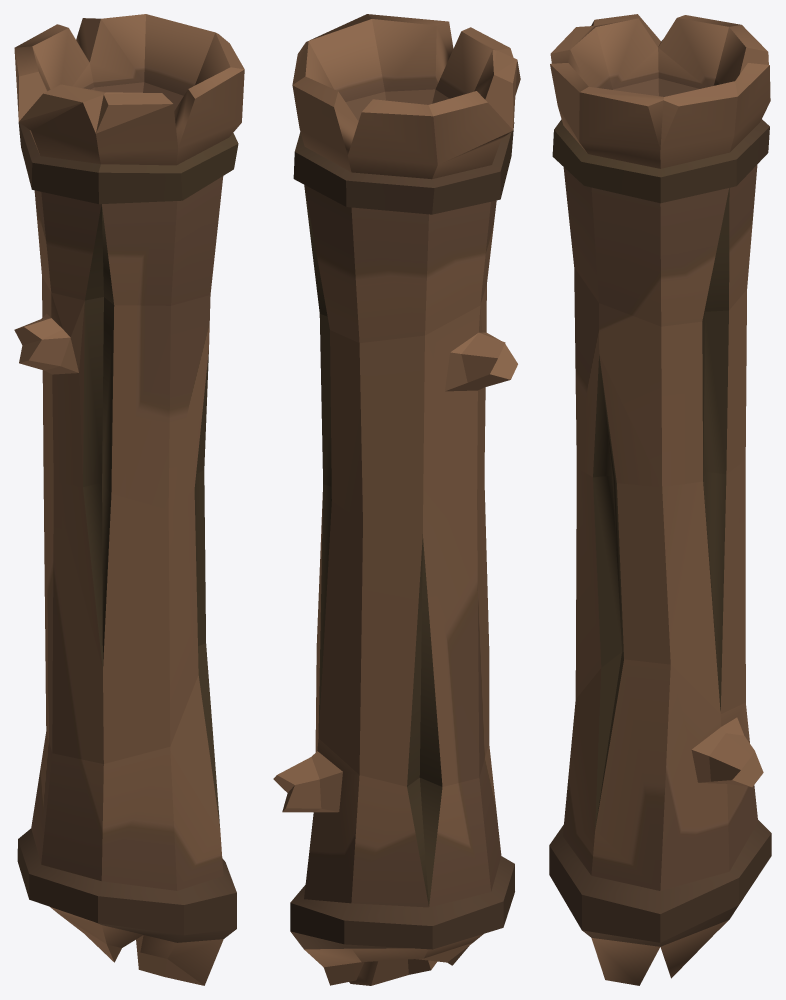
File: elven_SM_Prop_Quiver_03.gltf
3 renders of one model, left to right at view 1: azimuth 30°, elevation 25°; view 2: azimuth 150°, elevation 25°; view 3: azimuth 270°, elevation 25°, orthographic. The views are drawn at different scales.
Parts seen in each view (by area): view 1: SM_Prop_Quiver_03; view 2: SM_Prop_Quiver_03; view 3: SM_Prop_Quiver_03.
Boxes of the visible parts, x1,y1,x2,y2 form: SM_Prop_Quiver_03: (14,14,244,985); SM_Prop_Quiver_03: (273,14,520,985); SM_Prop_Quiver_03: (549,14,771,985).
Bounding box in the file's own units: 0.1904 × 0.8124 × 0.1812.
Materials: 1 (1 with a texture image).
